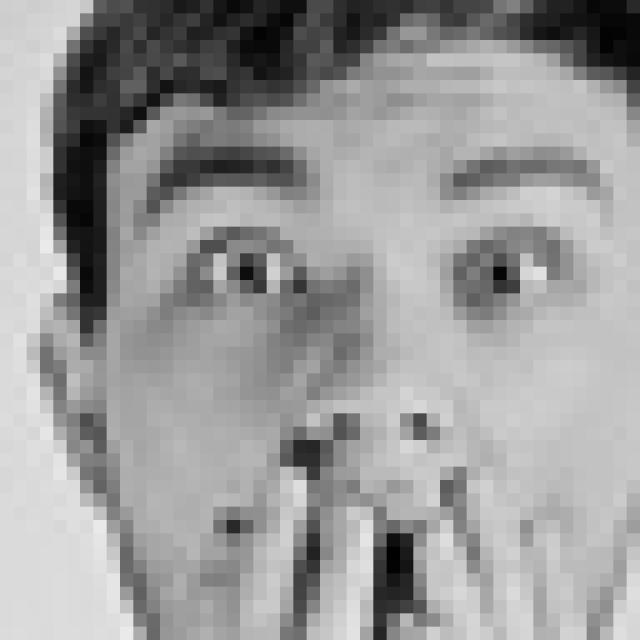fear: (136, 140, 615, 616)
